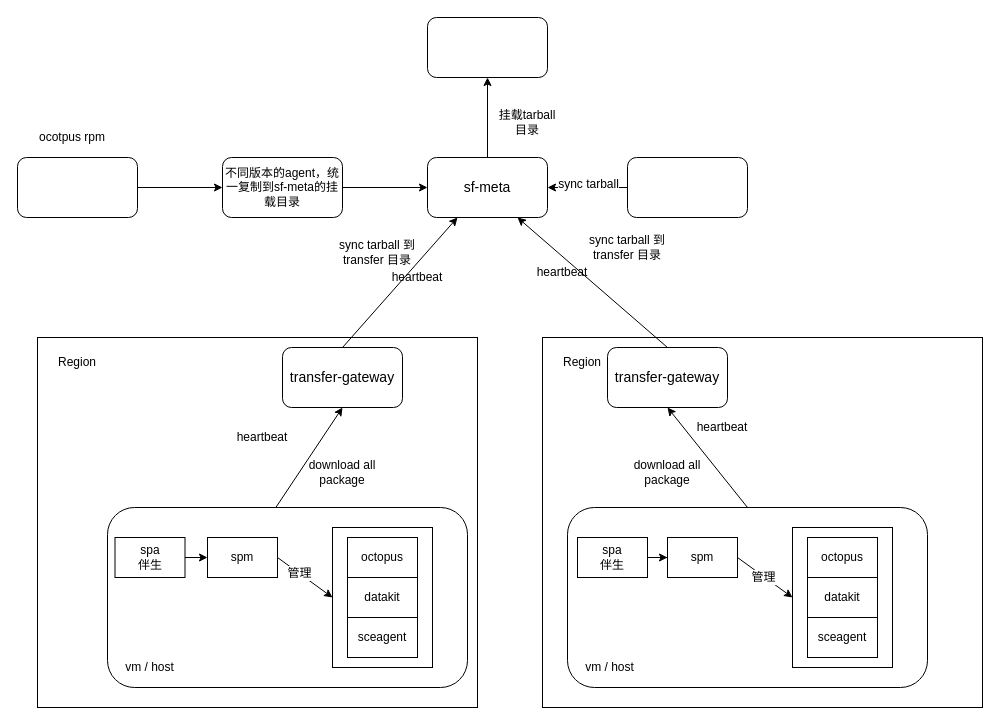
The diagram is 1000 pixels wide and 725 high, and some of its shapes have lost their labels. The centre of each missing label's shape, as x and y in pixels:
"k8s" goes at point (487, 47).
"ocotpus 打包脚本生成所有版本的agent" goes at point (77, 187).
"transfer-gateway scc 容器" goes at point (687, 187).
